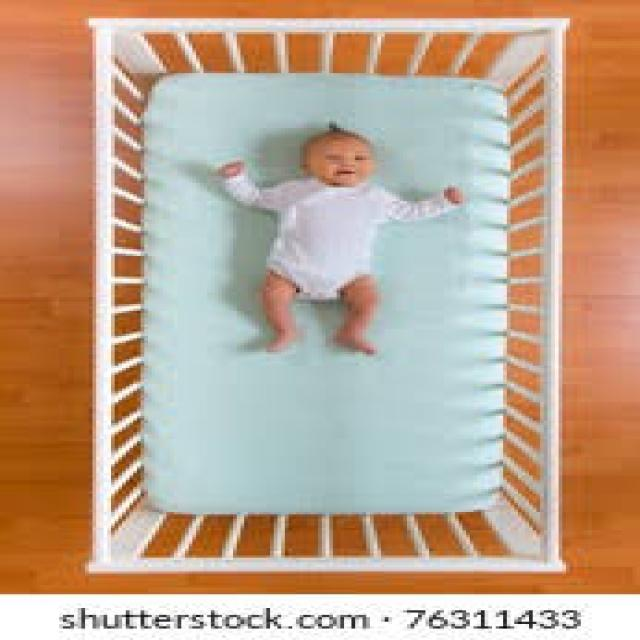crib: (81, 14, 570, 574)
